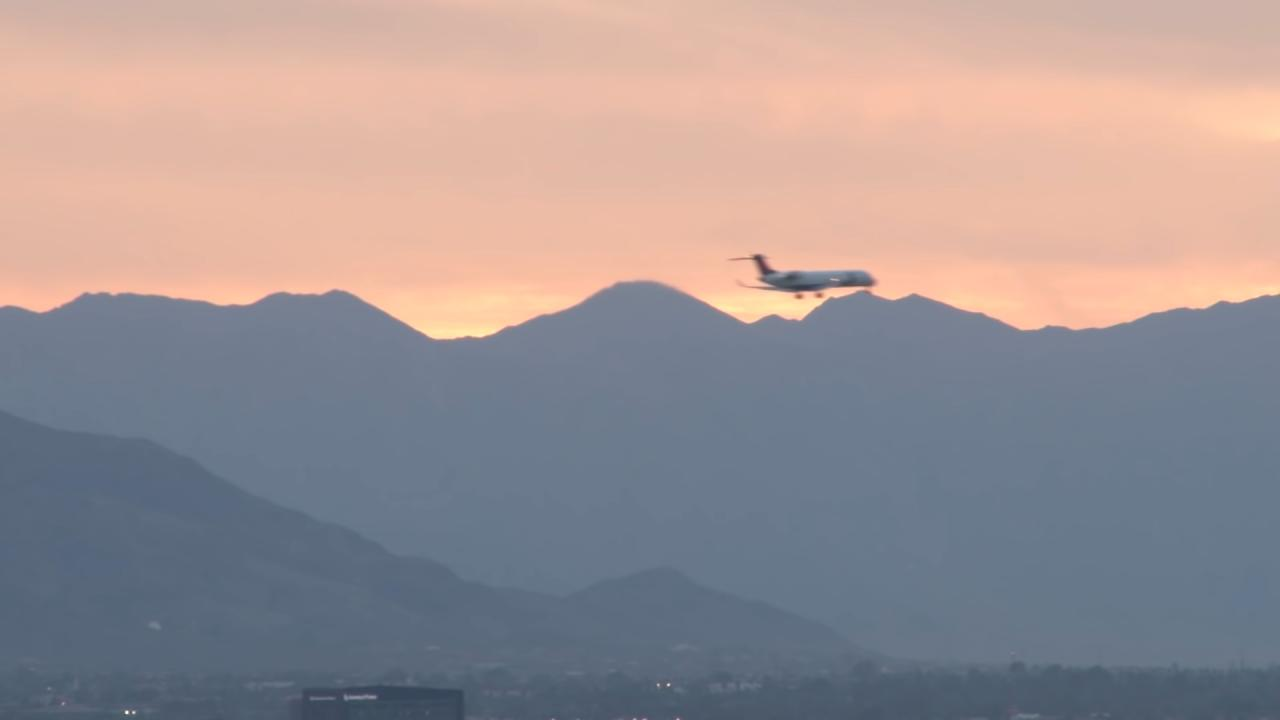Airplane: (716, 245, 886, 309)
